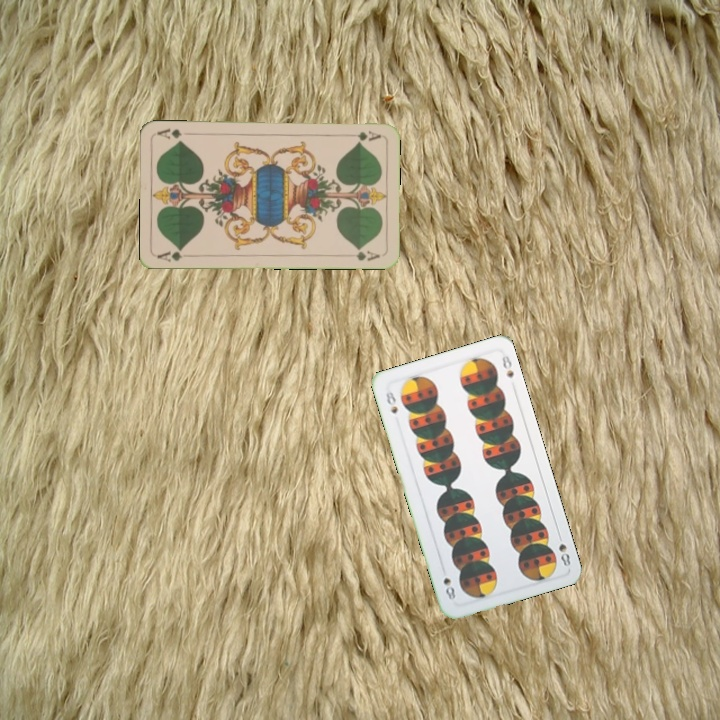GA: (343, 127, 384, 144), (154, 244, 185, 264)
S8: (554, 529, 573, 569), (382, 387, 400, 417)
